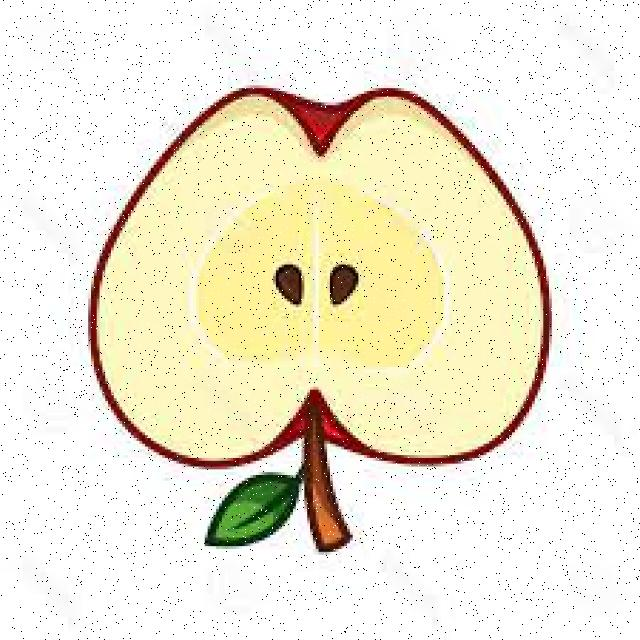Apple: (86, 82, 553, 522)
